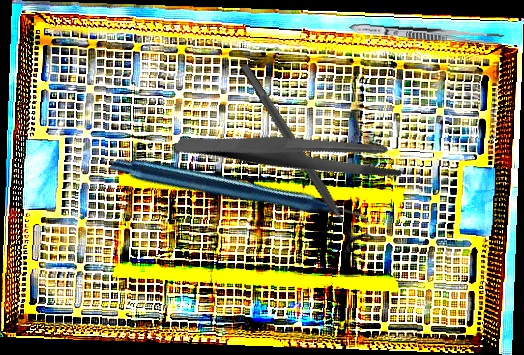Dressing Forceps: (172, 78, 410, 227), (348, 21, 506, 46)
Fixation Ring: (229, 56, 376, 256)
Handpiece: (107, 61, 372, 330)
